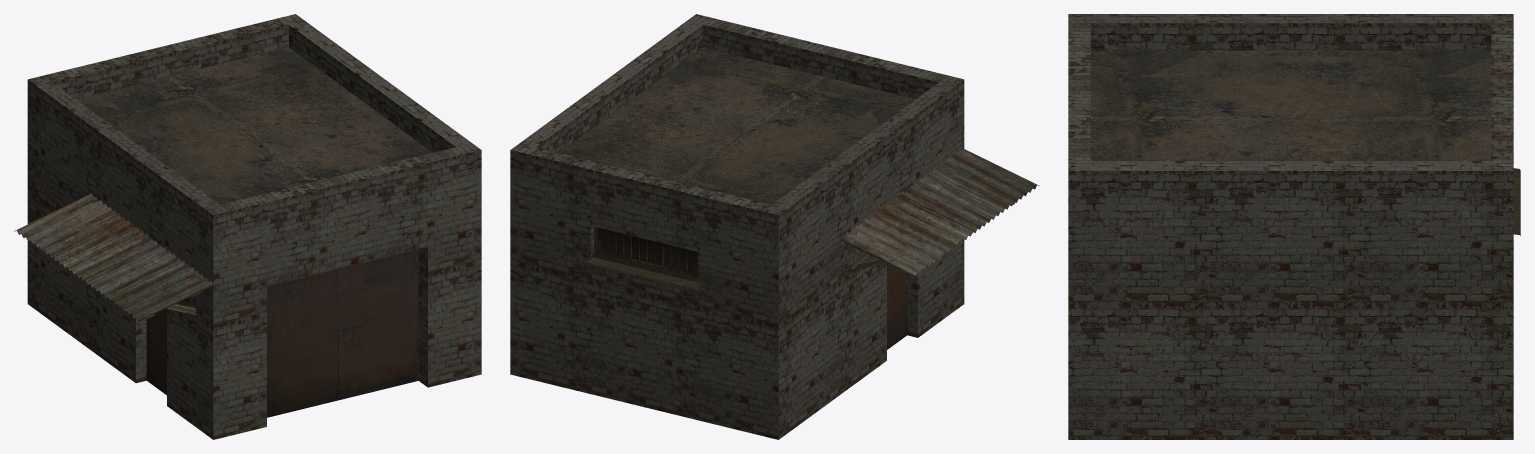
The model's file is garage_hl_1.dae.
The picture shows the model from 3 angles, left to right: view 1: azimuth 30°, elevation 25°; view 2: azimuth 150°, elevation 25°; view 3: azimuth 270°, elevation 25°; orthographic projection. The views are drawn at different scales.
Parts seen in each view (by area): view 1: garage_hl_1; view 2: garage_hl_1; view 3: garage_hl_1.
Part boxes in pixels (left/top/right/bottom): garage_hl_1: left=14, top=14, right=481, bottom=439; garage_hl_1: left=510, top=14, right=1039, bottom=439; garage_hl_1: left=1068, top=14, right=1520, bottom=439.
Bounding box in the file's own units: 6.4 × 6.1 × 4.
Materials: 9 (9 with a texture image).
